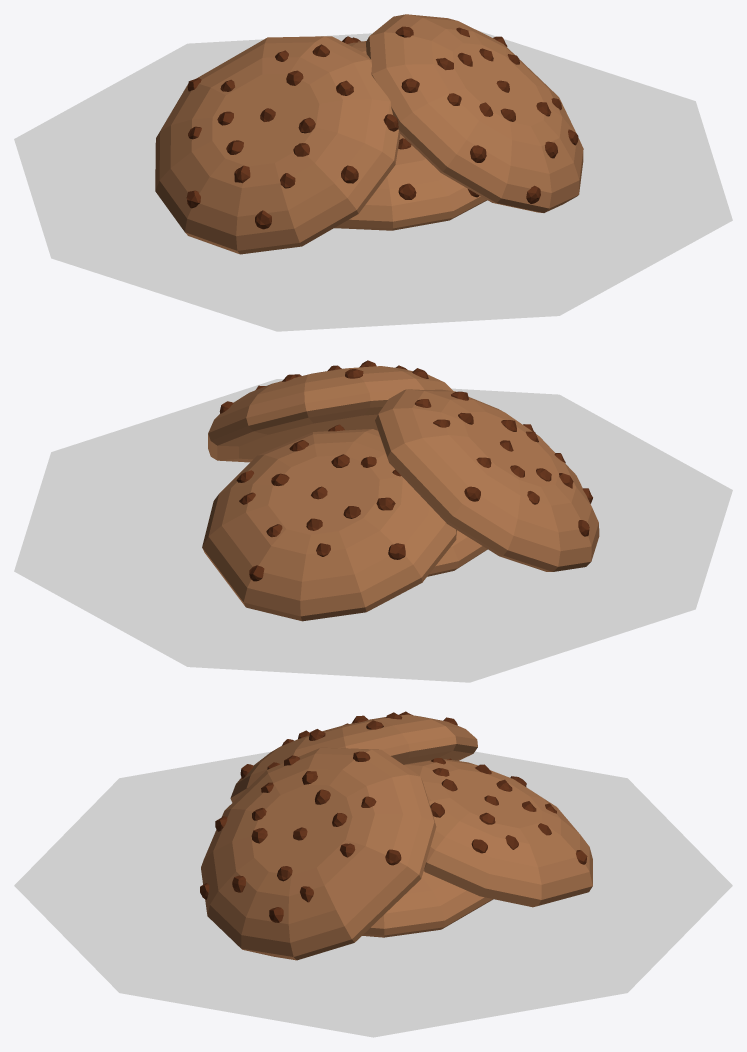
File: milkCookieBaked.fbx
3 renders of one model, top to bottom at view 1: azimuth 30°, elevation 25°; view 2: azimuth 150°, elevation 25°; view 3: azimuth 270°, elevation 25°, orthographic. The views are drawn at different scales.
Parts seen in each view (by area): view 1: Cylinder, Icosphere.003, Icosphere.002, Icosphere; view 2: Cylinder, Icosphere.001, Icosphere.003, Icosphere.002, Icosphere; view 3: Cylinder, Icosphere.002, Icosphere.001, Icosphere.003, Icosphere.
Boxes of the visible parts, left/top/right/bottom form: Cylinder: left=14, top=30, right=732, bottom=331; Icosphere.003: left=155, top=36, right=400, bottom=254; Icosphere.002: left=366, top=14, right=583, bottom=212; Icosphere: left=334, top=134, right=487, bottom=230; Cylinder: left=14, top=379, right=732, bottom=682; Icosphere.001: left=202, top=424, right=456, bottom=621; Icosphere.003: left=375, top=389, right=599, bottom=571; Icosphere.002: left=208, top=360, right=452, bottom=462; Icosphere: left=427, top=530, right=487, bottom=576; Cylinder: left=14, top=751, right=732, bottom=1037; Icosphere.002: left=200, top=747, right=436, bottom=960; Icosphere.001: left=404, top=758, right=592, bottom=907; Icosphere.003: left=230, top=711, right=477, bottom=802; Icosphere: left=362, top=871, right=493, bottom=937.
Bounding box in the file's own units: 165 × 44.43 × 165.
